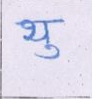u_matra: (36, 44, 62, 59)
